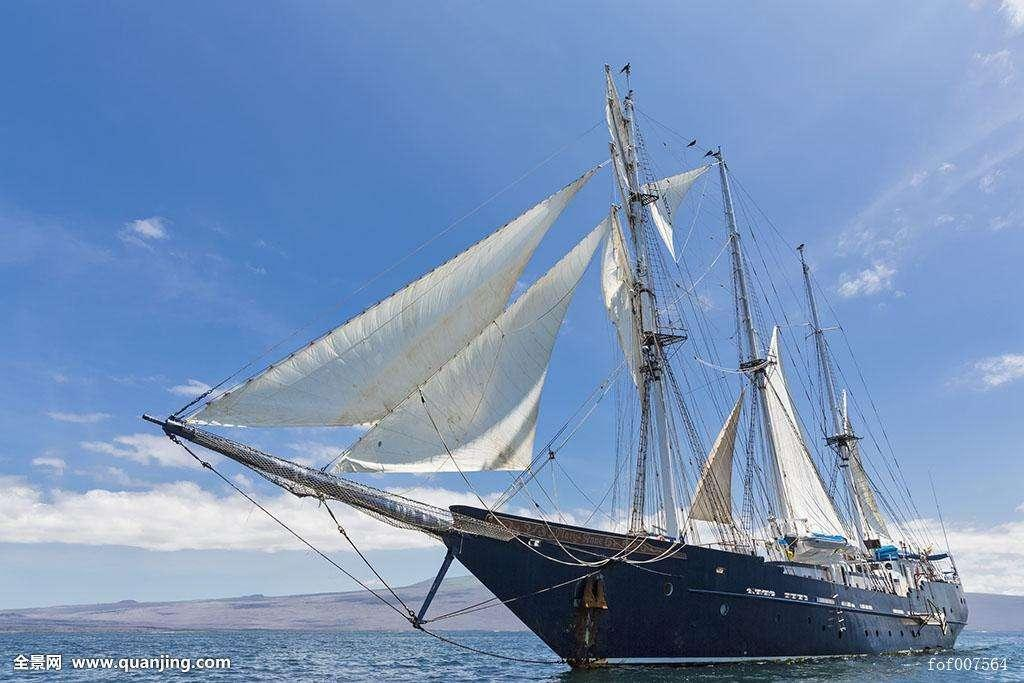fanchuan: (144, 52, 976, 657)
